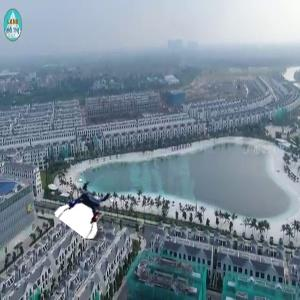drone: (61, 181, 114, 234)
